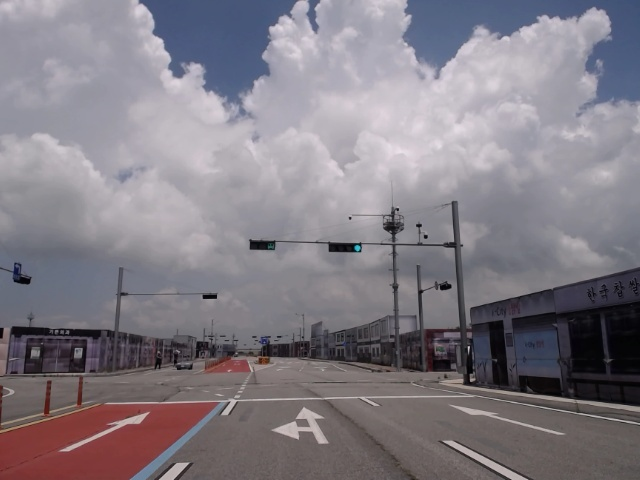straight_green_4: (328, 243, 362, 253)
